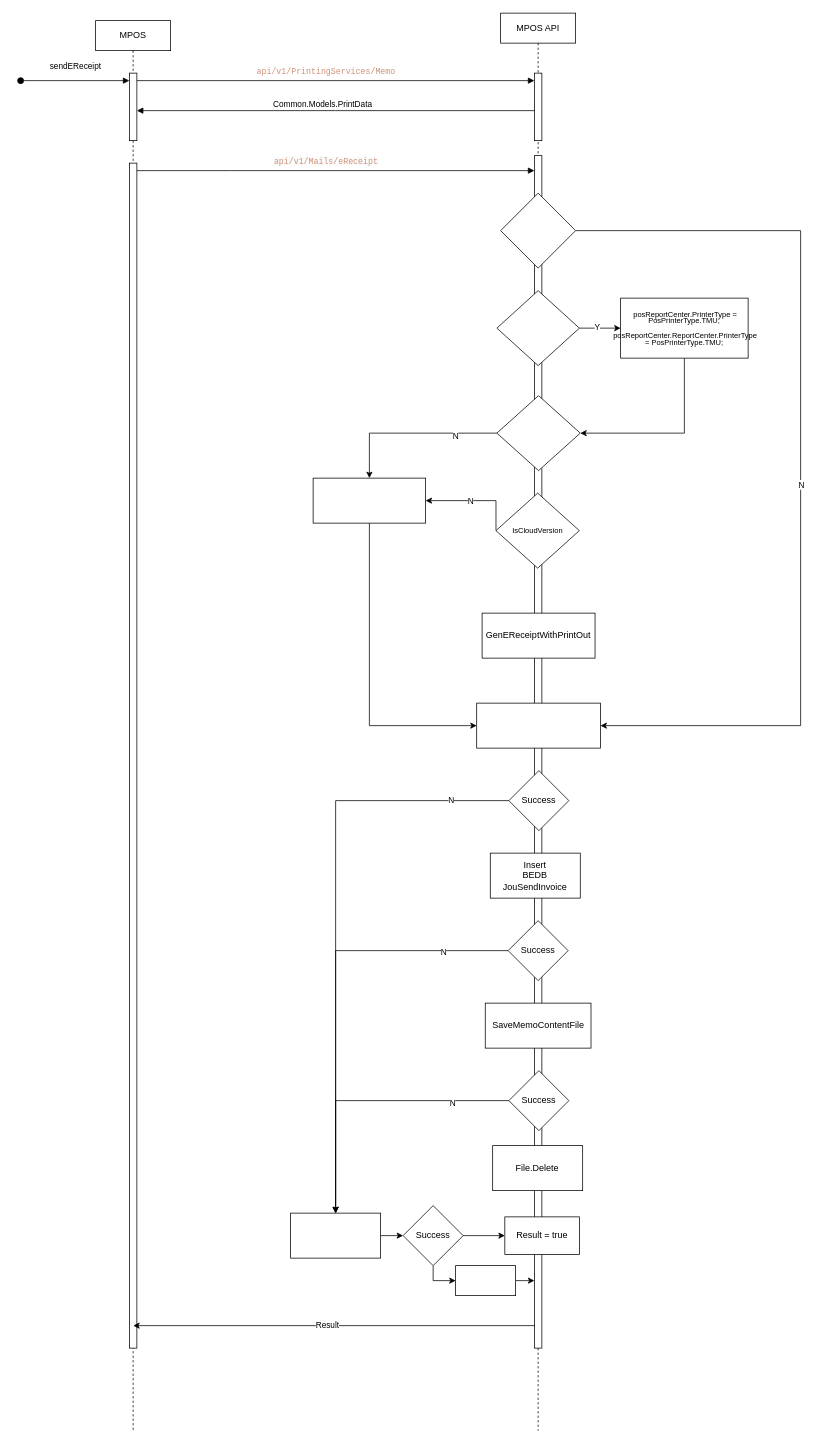
Image size: 820x1444. Some labels were removed from this diagram. The shapes that lost their labels are listed below. From the top down, each one's centre as x and y in pixels, then its label:
the point at 538,230: EnableDotNetPrint \ DOTNETPRINT
the point at 537,328: CompanyCode is COACHJP
the point at 538,433: eReceiptDisablePrint is C
the point at 369,500: GetSalesEReceipt
the point at 538,725: BeWebClient.Upload_eReceipt
the point at 335,1235: Insert DBHIST JouSendInvoice
the point at 485,1280: Result=False
